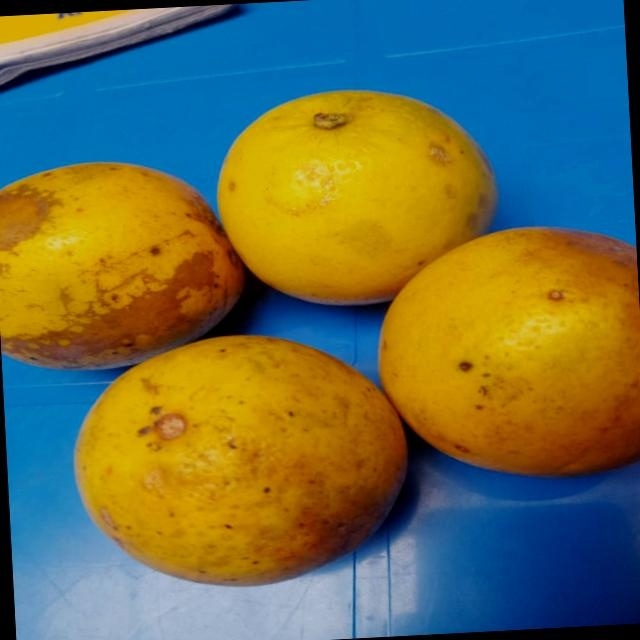agrume: (72, 331, 411, 597), (369, 223, 640, 498), (206, 82, 500, 308), (0, 143, 263, 366)
